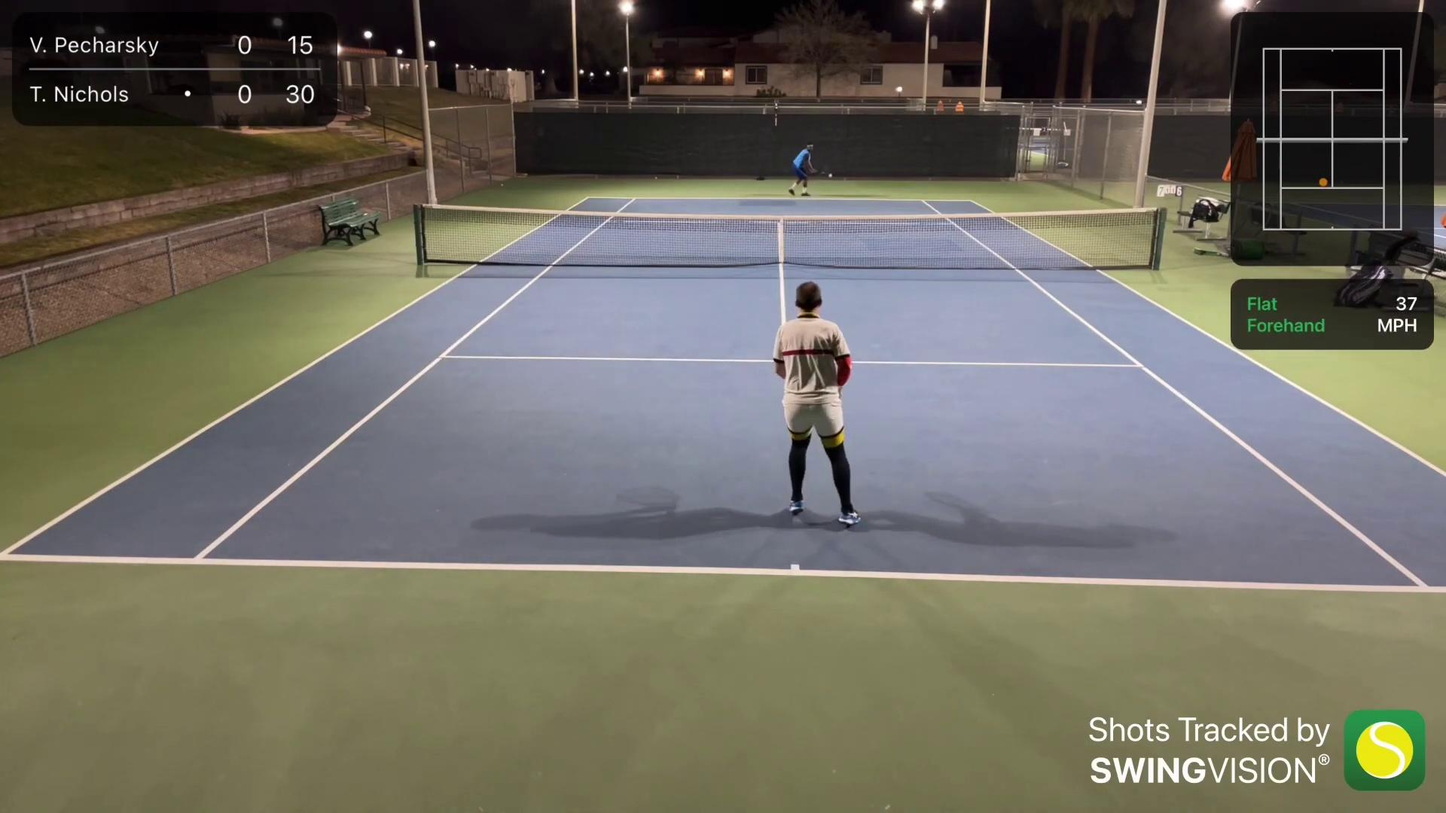ball: (828, 172, 833, 179)
